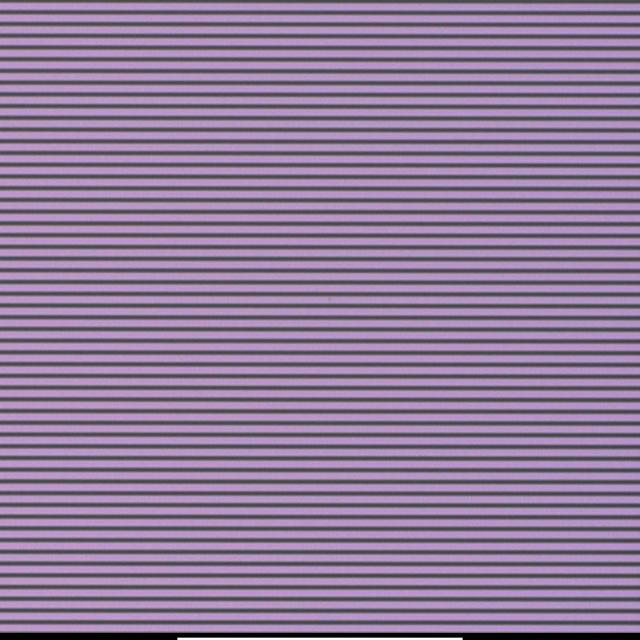nonvisual: (328, 293, 337, 305)
